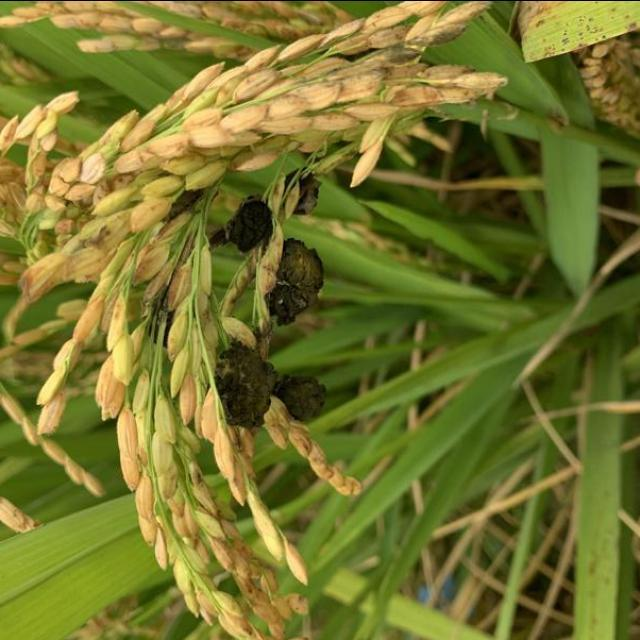Leaf_Scald: (216, 338, 328, 429), (260, 236, 326, 326), (216, 192, 276, 258), (278, 162, 324, 218)
